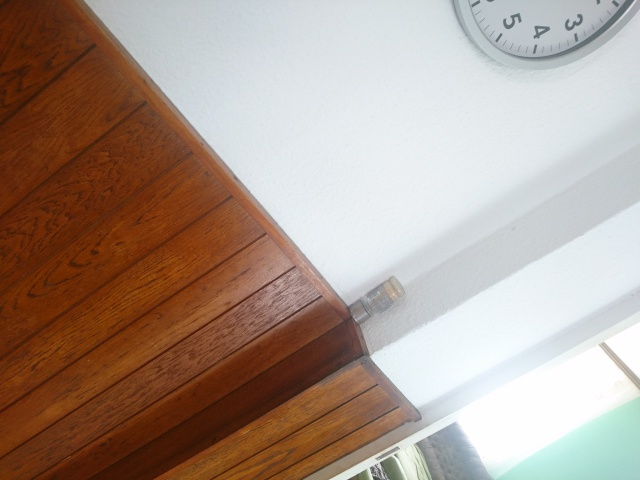Kotanyi Garlic Granules 70g: (346, 273, 406, 327)
